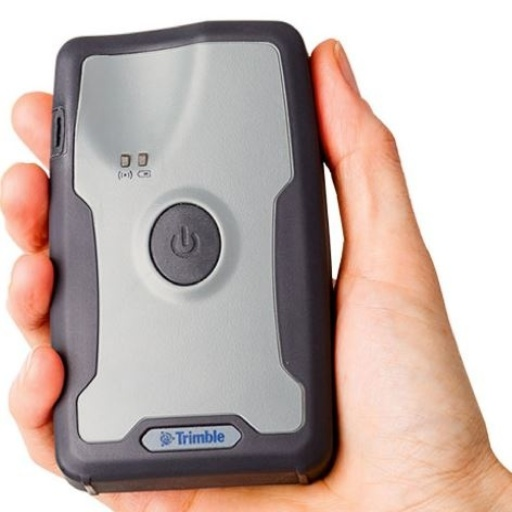hand: (6, 29, 485, 510)
